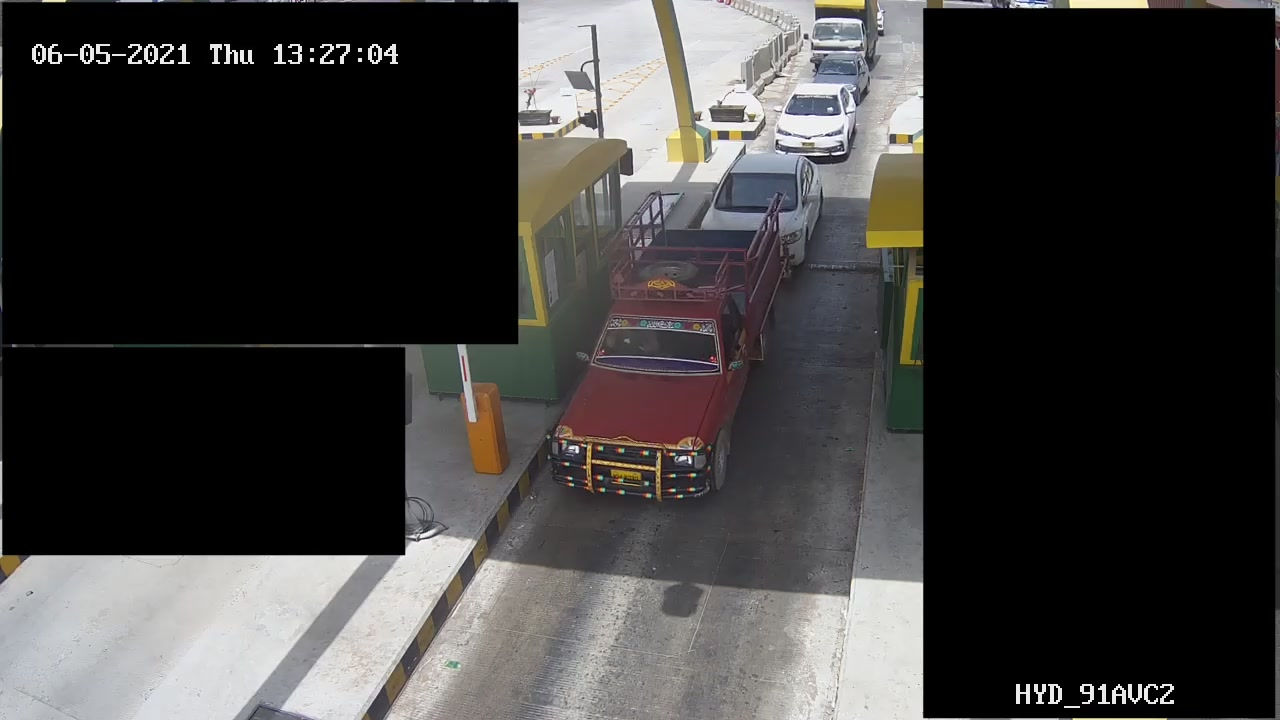F1: (538, 177, 788, 513)
